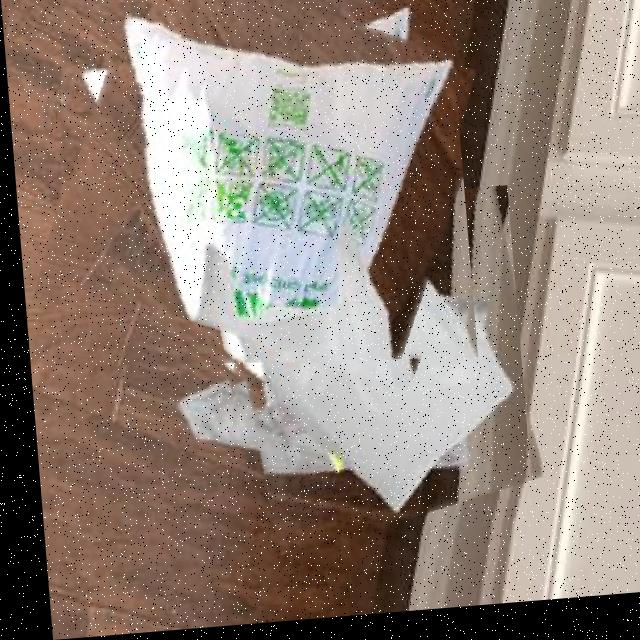plasticcover: (31, 0, 470, 392), (197, 194, 524, 549)
